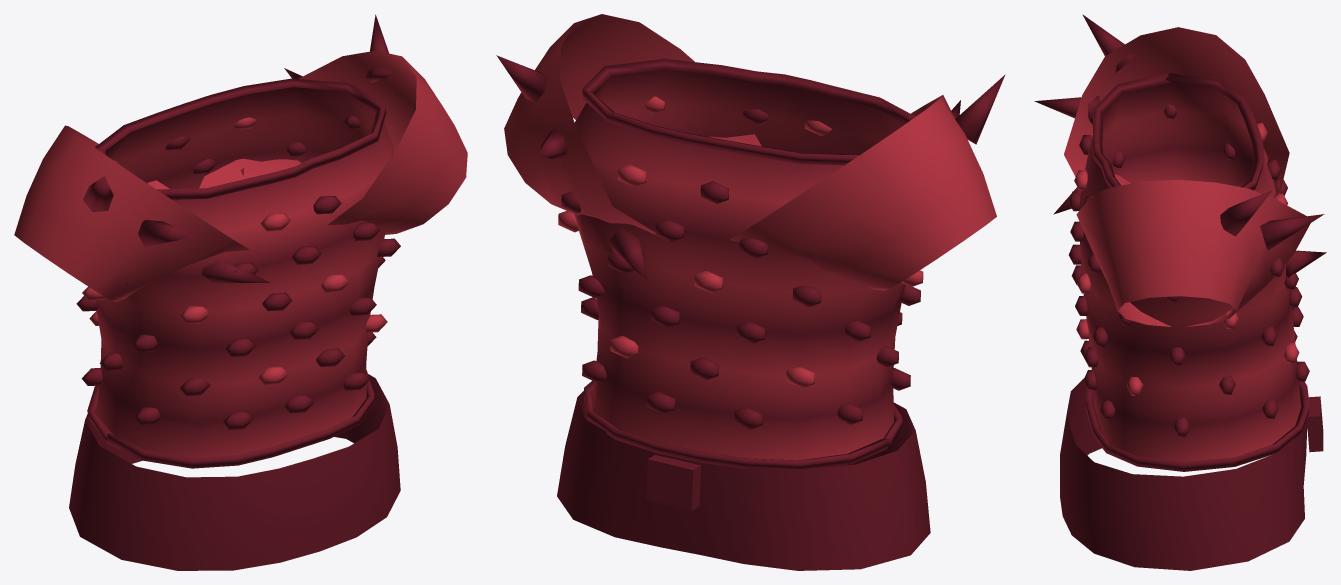
File: crimtane_chainmail.glb
3 views of the same model, side by side, from view 1: azimuth 30°, elevation 25°; view 2: azimuth 150°, elevation 25°; view 3: azimuth 270°, elevation 25° (orthographic). The views are drawn at different scales.
Visible parts, largest first — view 1: crimtane_chainmail_chest; view 2: crimtane_chainmail_chest; view 3: crimtane_chainmail_chest.
Part boxes in pixels (box(x1,y1,x2,y2)): crimtane_chainmail_chest: box(14, 14, 467, 570); crimtane_chainmail_chest: box(496, 14, 1005, 570); crimtane_chainmail_chest: box(1034, 14, 1326, 570).
Bounding box in the file's own units: 0.6233 × 0.5752 × 0.3767.
